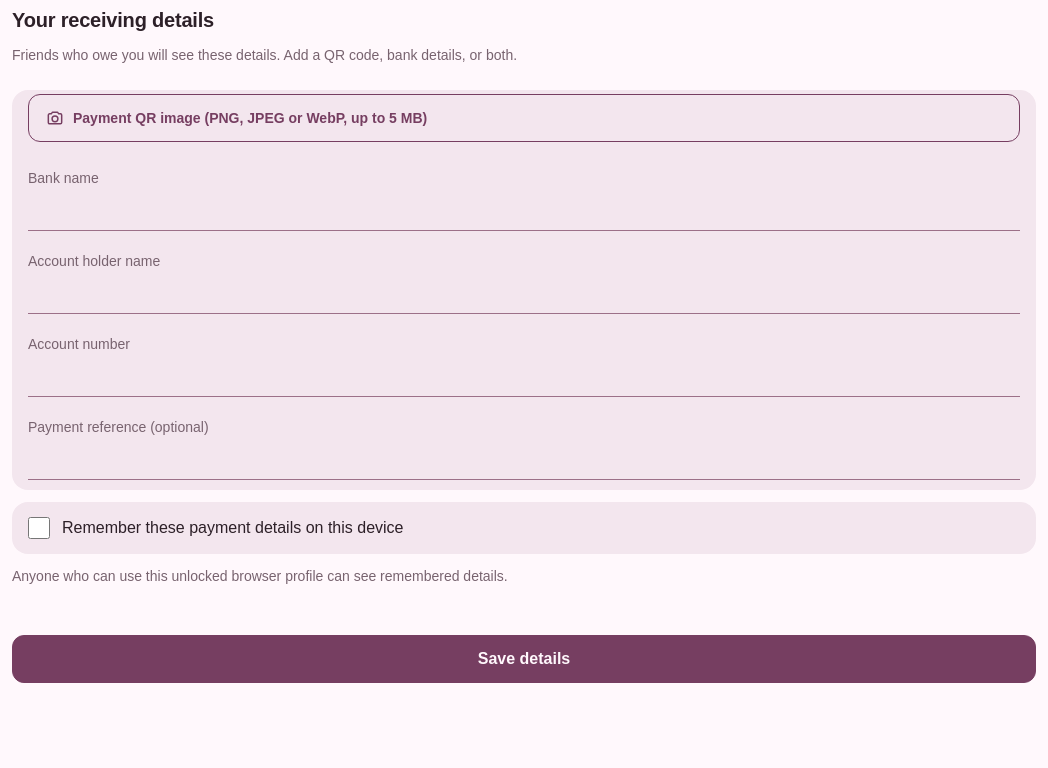
Test: PaymentDetailsForm › refuses to save when no method is given
Step 1. Click the button "Save details" → (524, 659), box [12,635,1036,683]
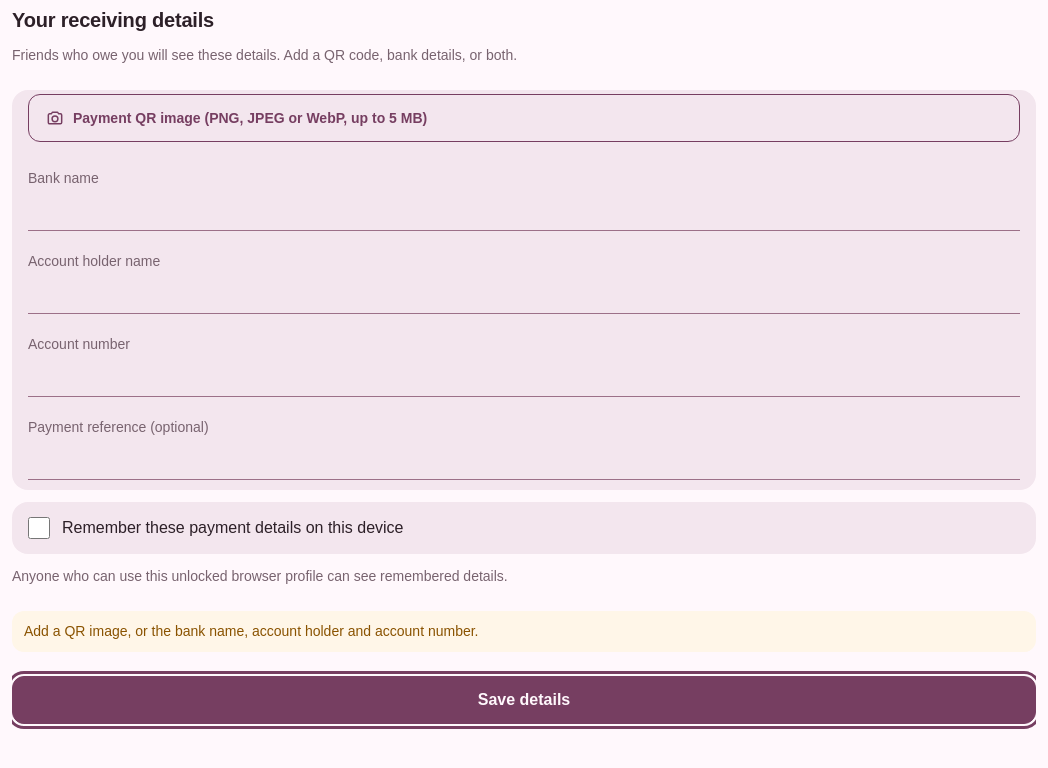
expect the message shows "Add a QR image, or the bank name": met, box [24,623,478,639]
